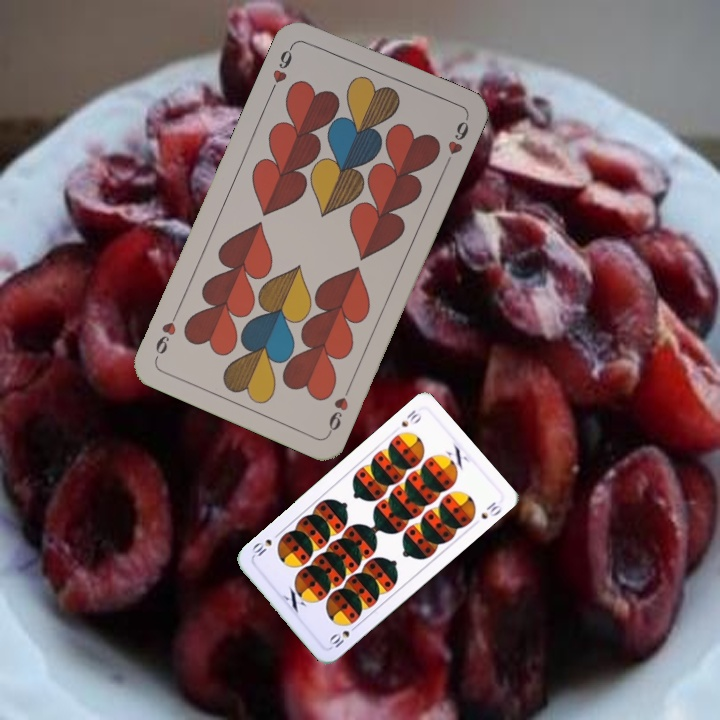H9: (266, 39, 298, 95), (324, 381, 354, 437)
S10: (325, 620, 361, 652), (397, 406, 424, 430)
